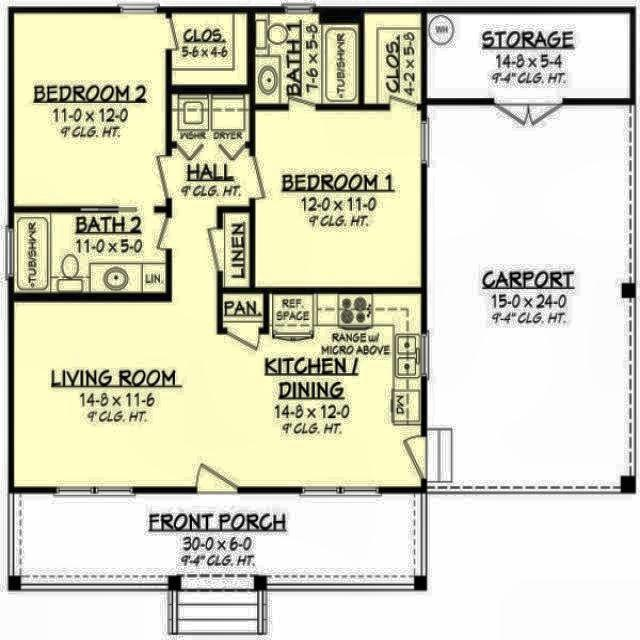room: (14, 148, 421, 488), (427, 104, 633, 485), (22, 494, 413, 577), (14, 14, 165, 206), (256, 112, 419, 286), (427, 14, 629, 98), (14, 214, 166, 293), (255, 13, 359, 103), (172, 14, 247, 85), (364, 14, 421, 102), (171, 95, 249, 141), (224, 212, 249, 287), (223, 294, 263, 327)
